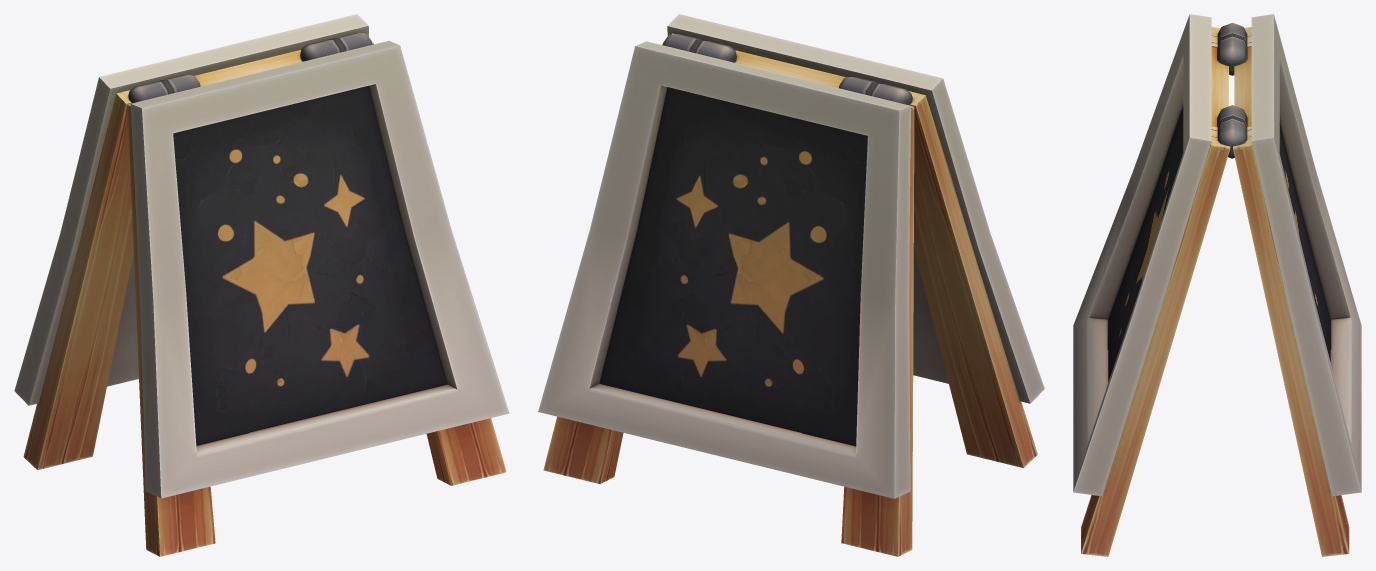
File: SE_Sign_01_SM.FBX
3 renders of one model, left to right at view 1: azimuth 30°, elevation 25°; view 2: azimuth 150°, elevation 25°; view 3: azimuth 270°, elevation 25°, orthographic. The views are drawn at different scales.
Parts seen in each view (by area): view 1: SE_Sign_01_SM_LOD0; view 2: SE_Sign_01_SM_LOD0; view 3: SE_Sign_01_SM_LOD0.
Boxes of the visible parts, left/top/right/bottom form: SE_Sign_01_SM_LOD0: left=14, top=14, right=509, bottom=556; SE_Sign_01_SM_LOD0: left=538, top=14, right=1044, bottom=556; SE_Sign_01_SM_LOD0: left=1073, top=14, right=1361, bottom=556.
Size of what is drawn, in the model's own units: 310 by 225 by 340.
